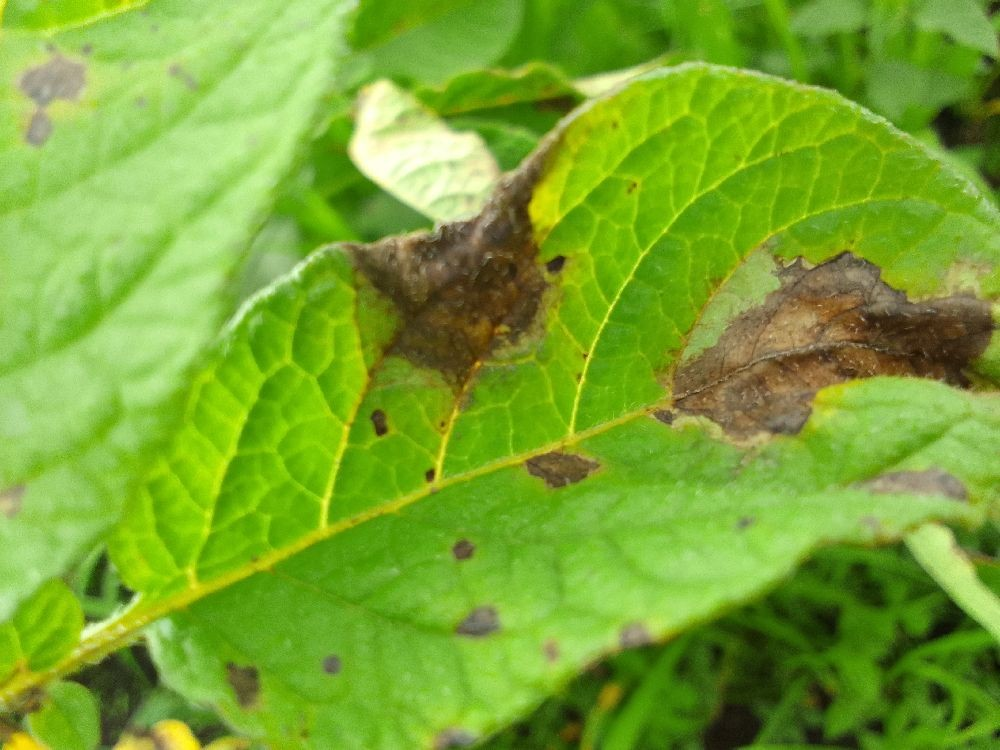late_blight: (311, 104, 599, 442), (628, 235, 999, 467), (50, 630, 186, 750), (514, 438, 608, 498)
